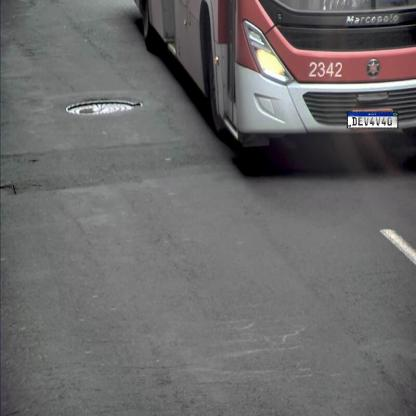PlacaM: (347, 112, 398, 128)
